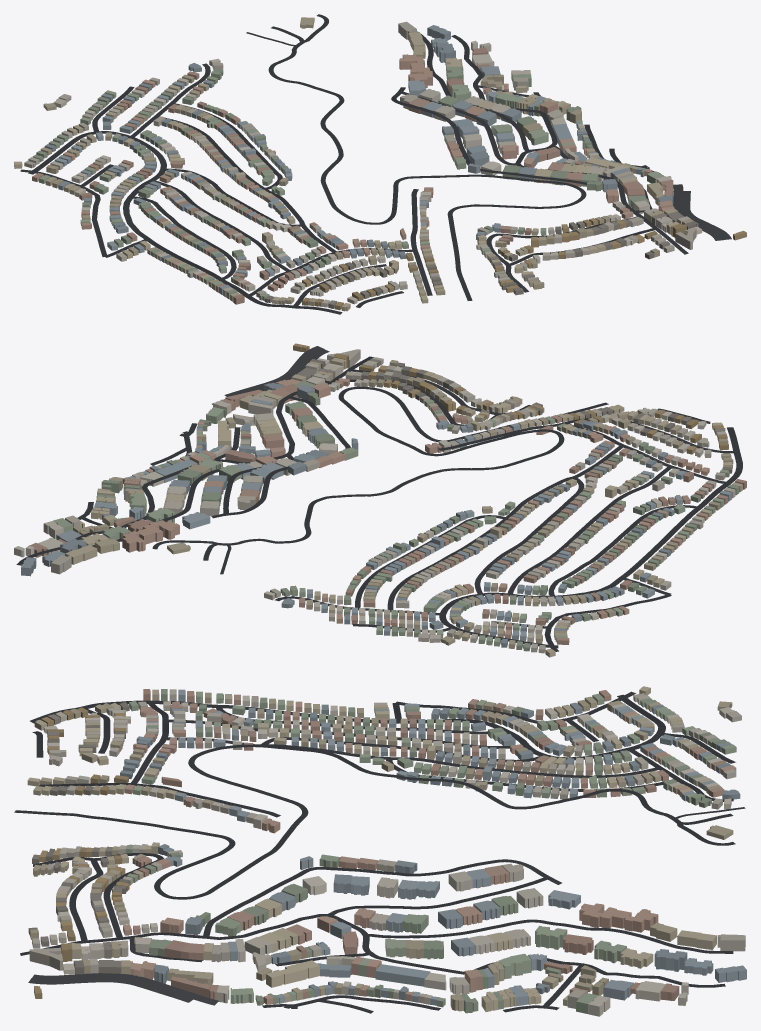
The model's file is tile_8_16.glb.
The picture shows the model from 3 angles, top to bottom: view 1: azimuth 30°, elevation 25°; view 2: azimuth 150°, elevation 25°; view 3: azimuth 270°, elevation 25°; orthographic projection. The views are drawn at different scales.
Parts seen in each view (by area): view 1: bld_8_16, road_8_16; view 2: bld_8_16, road_8_16; view 3: bld_8_16, road_8_16.
Boxes of the visible parts, left/top/right/bottom form: bld_8_16: left=14, top=17, right=746, bottom=311; road_8_16: left=20, top=14, right=731, bottom=314; bld_8_16: left=14, top=343, right=746, bottom=657; road_8_16: left=16, top=346, right=742, bottom=651; bld_8_16: left=27, top=686, right=746, bottom=1016; road_8_16: left=14, top=691, right=745, bottom=1013.
Bounding box in the file's own units: 834 × 103 × 835.
